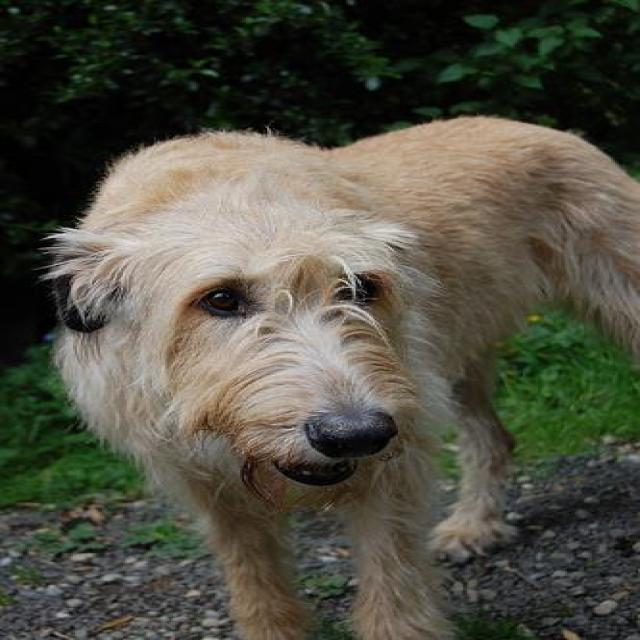irish_wolfhound: (39, 112, 636, 638)
